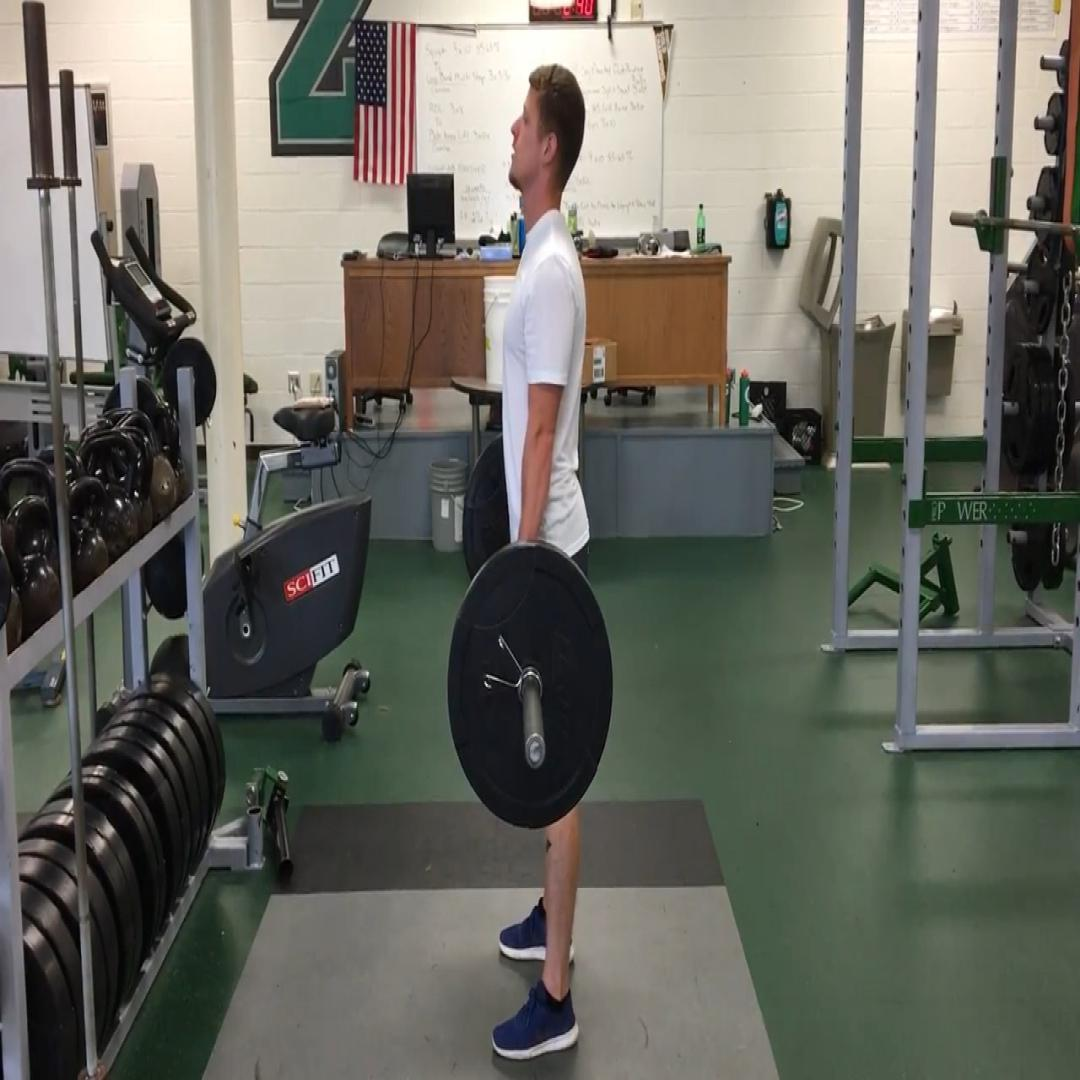Bar: (525, 734, 545, 768)
Barbell: (447, 544, 613, 828)
